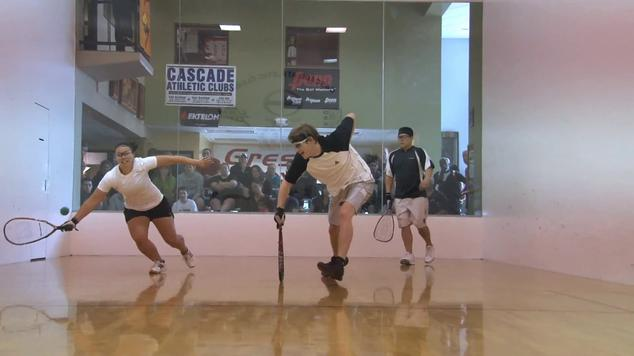down: (436, 155, 480, 213)
sit: (436, 155, 480, 213), (207, 170, 250, 204)
stay: (91, 144, 187, 270), (207, 170, 250, 204)
walk: (379, 129, 435, 261)
